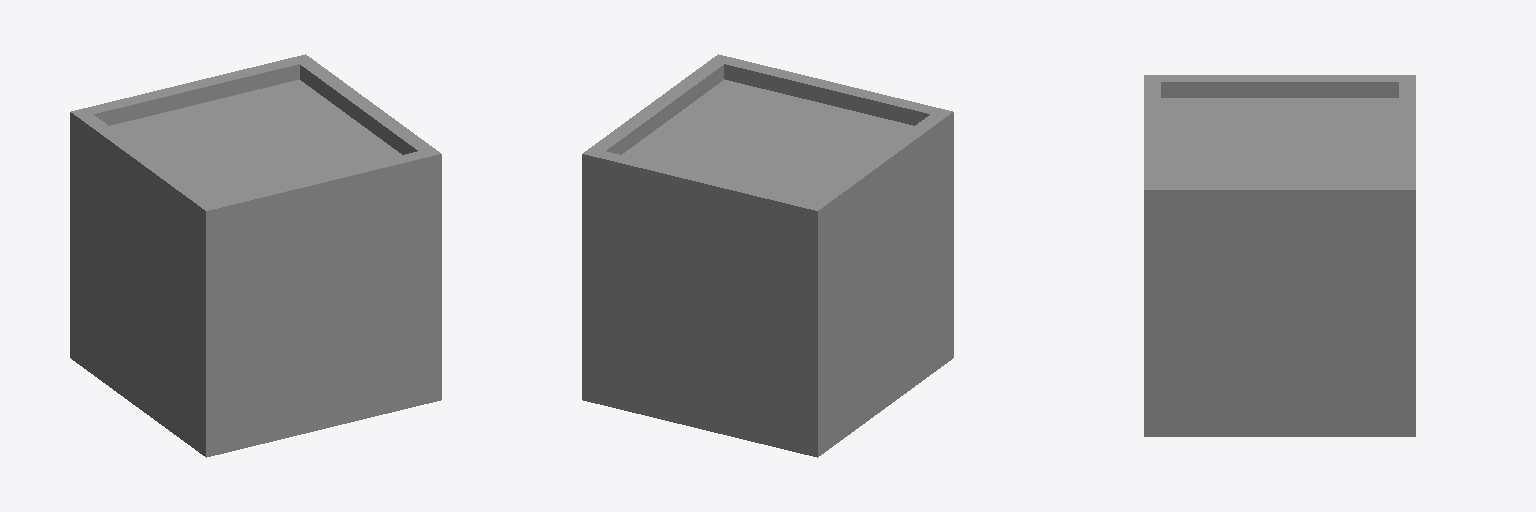
File: elevator.obj
3 views of the same model, side by side, from view 1: azimuth 30°, elevation 25°; view 2: azimuth 150°, elevation 25°; view 3: azimuth 270°, elevation 25° (orthographic).
Parts seen in each view (by area): view 1: Cube; view 2: Cube; view 3: Cube.
Part boxes in pixels (left/top/right/bottom): Cube: left=70, top=54, right=441, bottom=457; Cube: left=582, top=54, right=953, bottom=457; Cube: left=1144, top=75, right=1415, bottom=436.
Size of the model in its own units: 1 by 1 by 1.